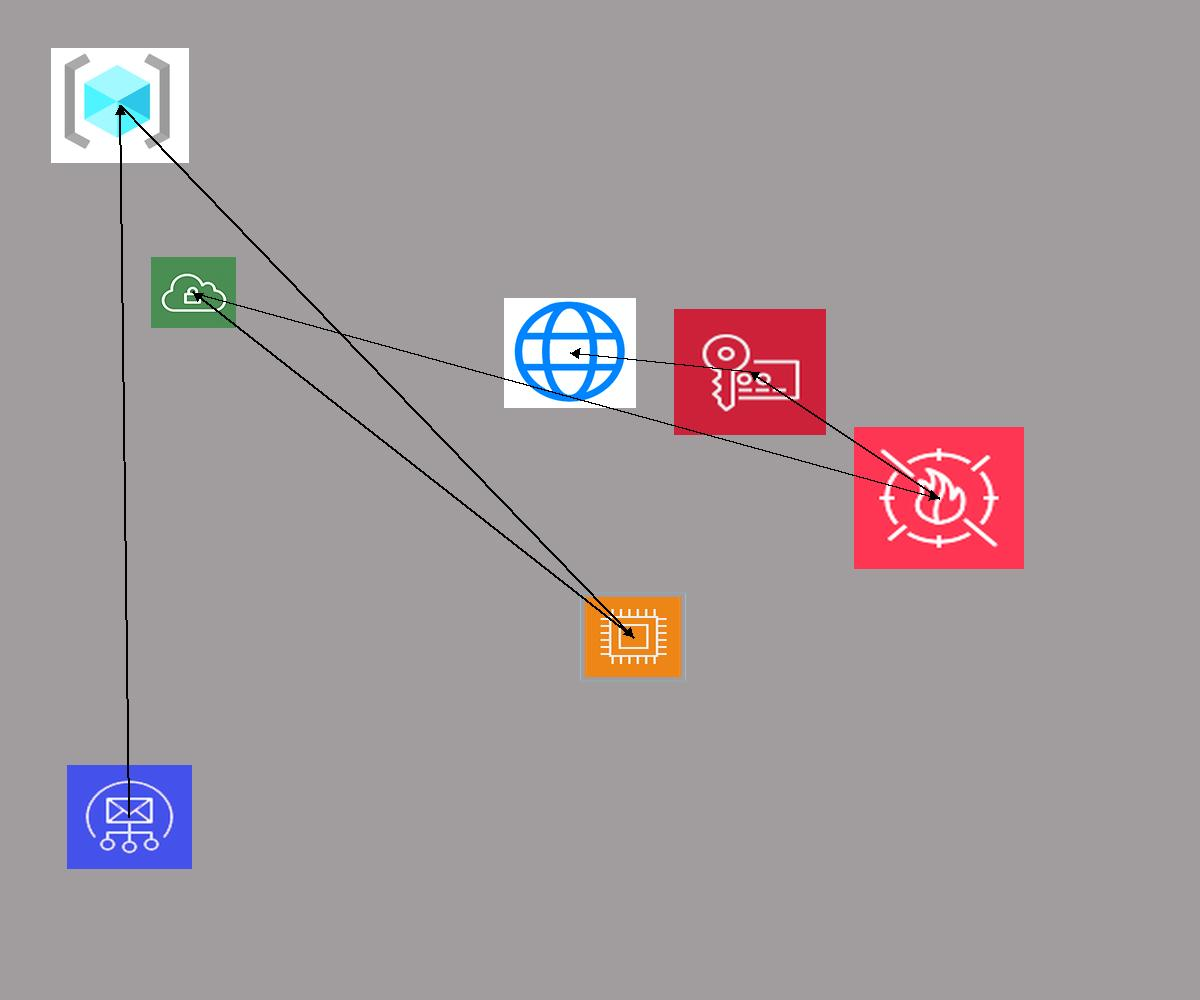AWS-Category_Compute: (579, 592, 687, 682)
AWS-Key-Management-Service: (674, 309, 826, 435)
AWS-Private_vpc: (151, 257, 236, 328)
AWS-Simple-Email-Service: (67, 765, 192, 869)
AWS-WAF: (854, 427, 1024, 569)
Azure_http: (504, 298, 636, 408)
Azure_resource_group: (51, 48, 189, 163)
